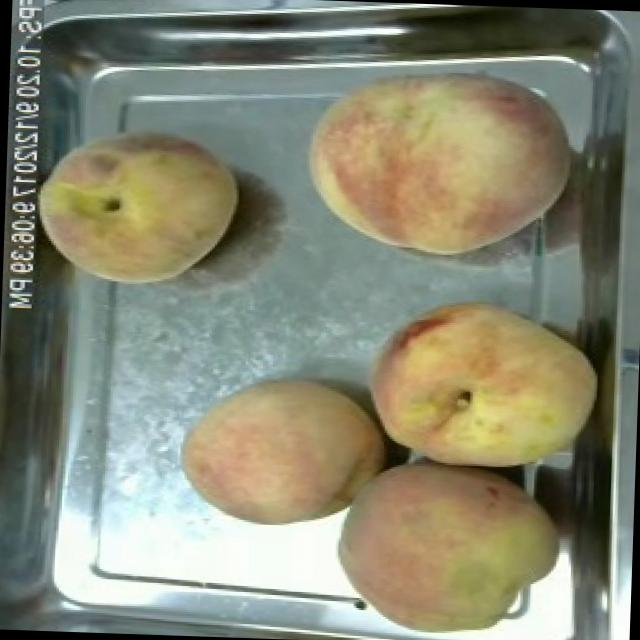Fruit: (293, 45, 580, 269), (352, 287, 611, 480), (326, 460, 568, 640), (21, 120, 248, 298), (171, 365, 398, 539)
